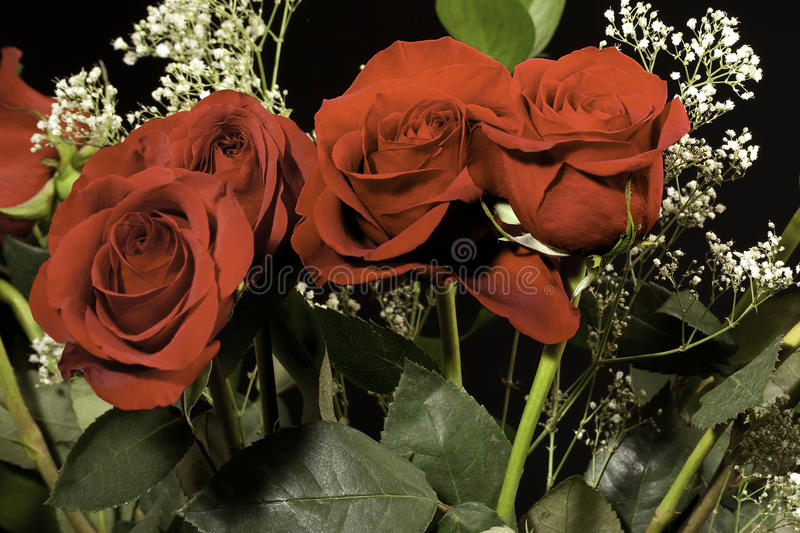RedRose: (112, 107, 277, 378), (318, 43, 502, 277), (491, 56, 692, 251)
